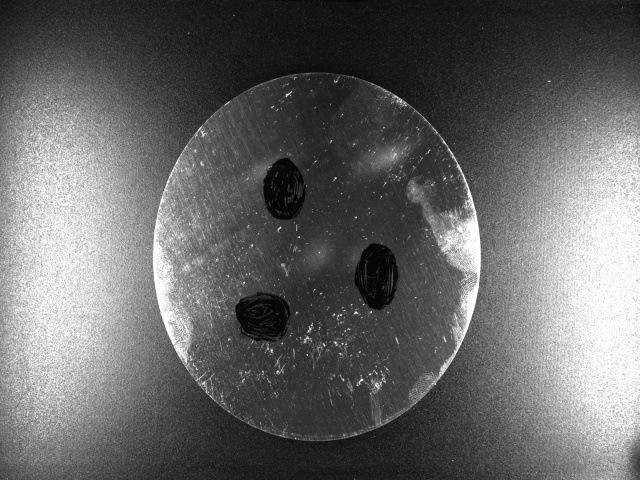zang_wu: (260, 154, 310, 223), (235, 288, 296, 343), (353, 241, 400, 312)
